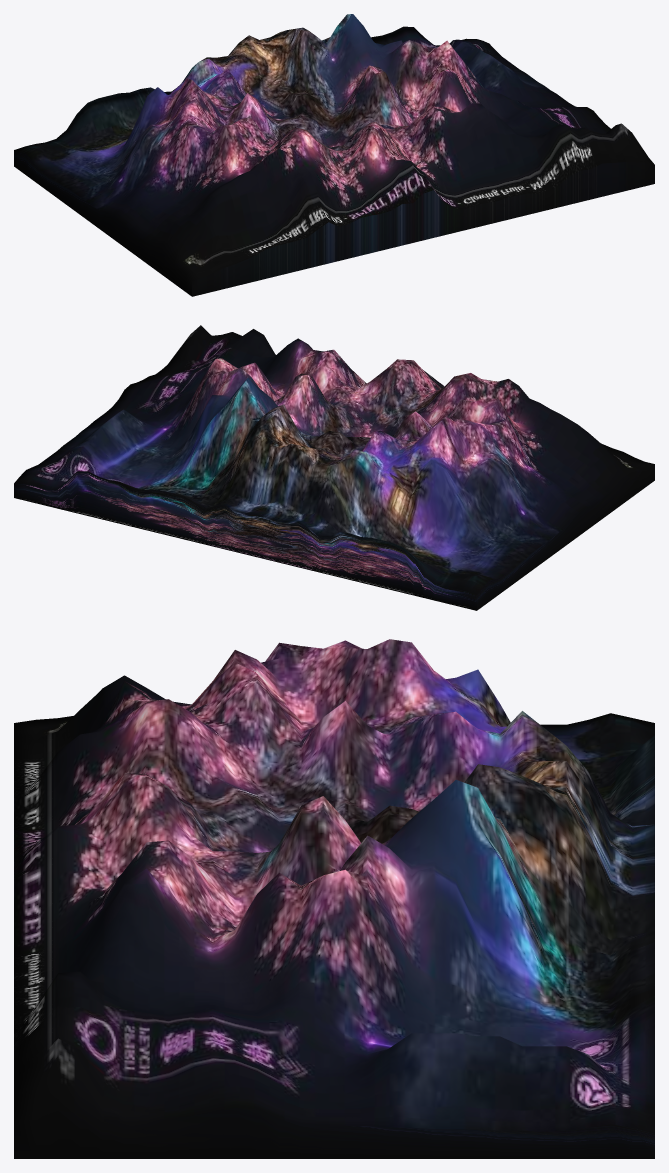
The model's file is TREE_02_Spirit_Peach.glb.
3 views of the same model, one above another, from view 1: azimuth 30°, elevation 25°; view 2: azimuth 150°, elevation 25°; view 3: azimuth 270°, elevation 25° (orthographic). The views are drawn at different scales.
Parts seen in each view (by area): view 1: TREE_02_Spirit_Peach; view 2: TREE_02_Spirit_Peach; view 3: TREE_02_Spirit_Peach.
Boxes of the visible parts, <box> form: TREE_02_Spirit_Peach: <box>14,14,654,296</box>; TREE_02_Spirit_Peach: <box>14,325,654,610</box>; TREE_02_Spirit_Peach: <box>14,639,654,1158</box>.
Size of the model in its own units: 2 by 0.51 by 1.33.
Materials: 1 (1 with a texture image).
